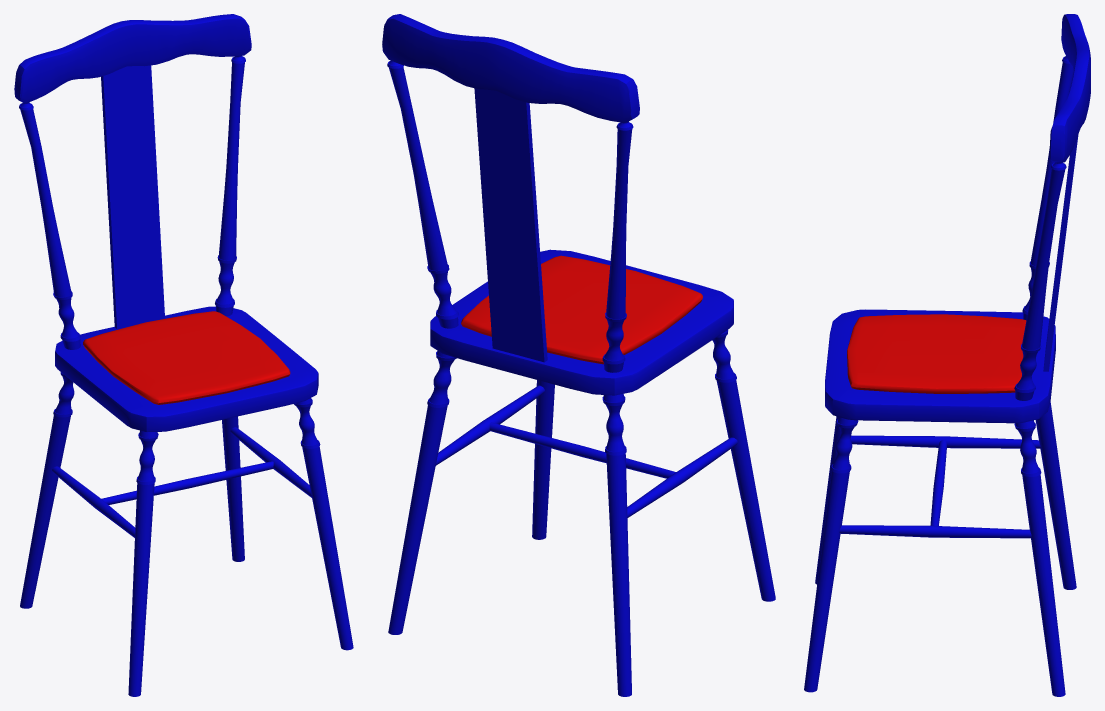
The model's file is chaise.fbx.
The picture shows the model from 3 angles, left to right: view 1: azimuth 30°, elevation 25°; view 2: azimuth 150°, elevation 25°; view 3: azimuth 270°, elevation 25°; orthographic projection. The views are drawn at different scales.
Parts seen in each view (by area): view 1: chaise.001; view 2: chaise.001; view 3: chaise.001.
Part boxes in pixels (x1,y1,x2,y2): chaise.001: (14,14,353,696); chaise.001: (382,14,775,696); chaise.001: (804,14,1090,696).
Bounding box in the file's own units: 38.09 × 87.13 × 38.75.
